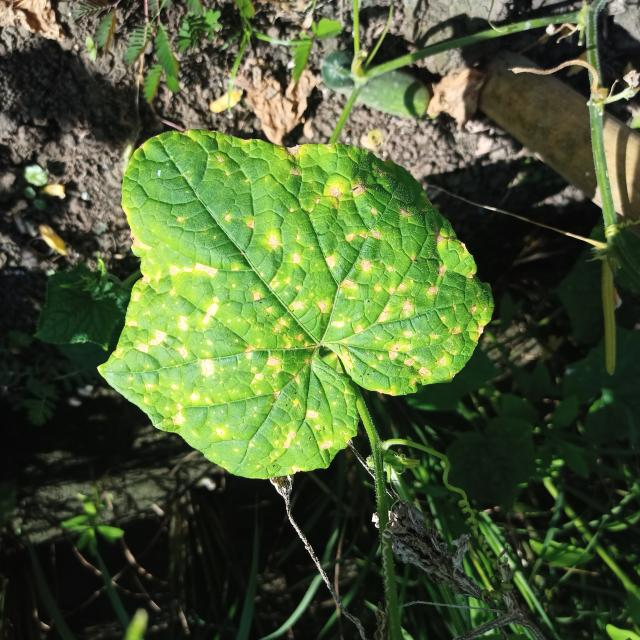disease_cucumber: (116, 133, 478, 472)
